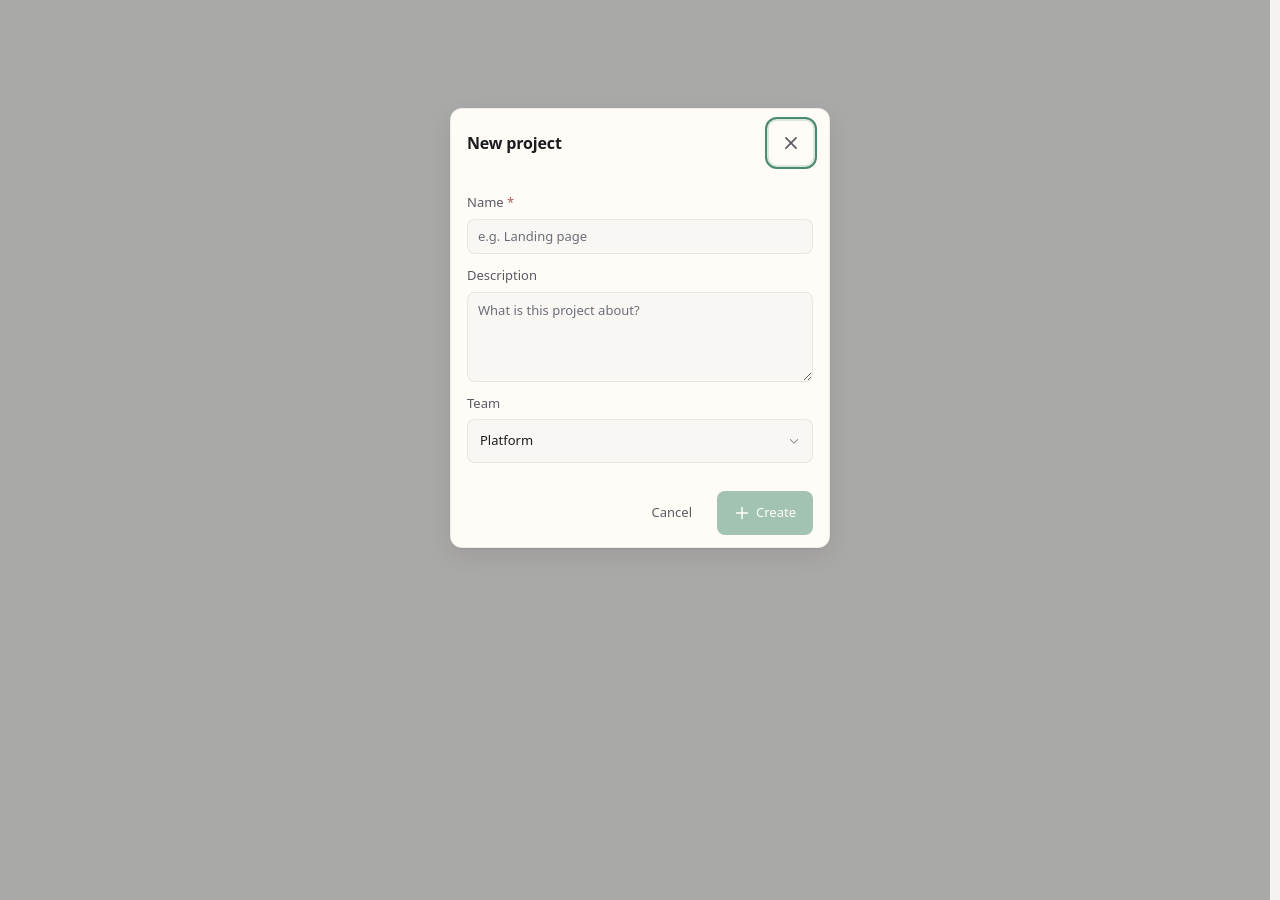
it: NewProjectModal team select › shows the upgrade modal when the plan limit is hit
Type "Landing" into the field labelled "Name *".
click(640, 236); type("Landing")  # box [467,218,813,254]
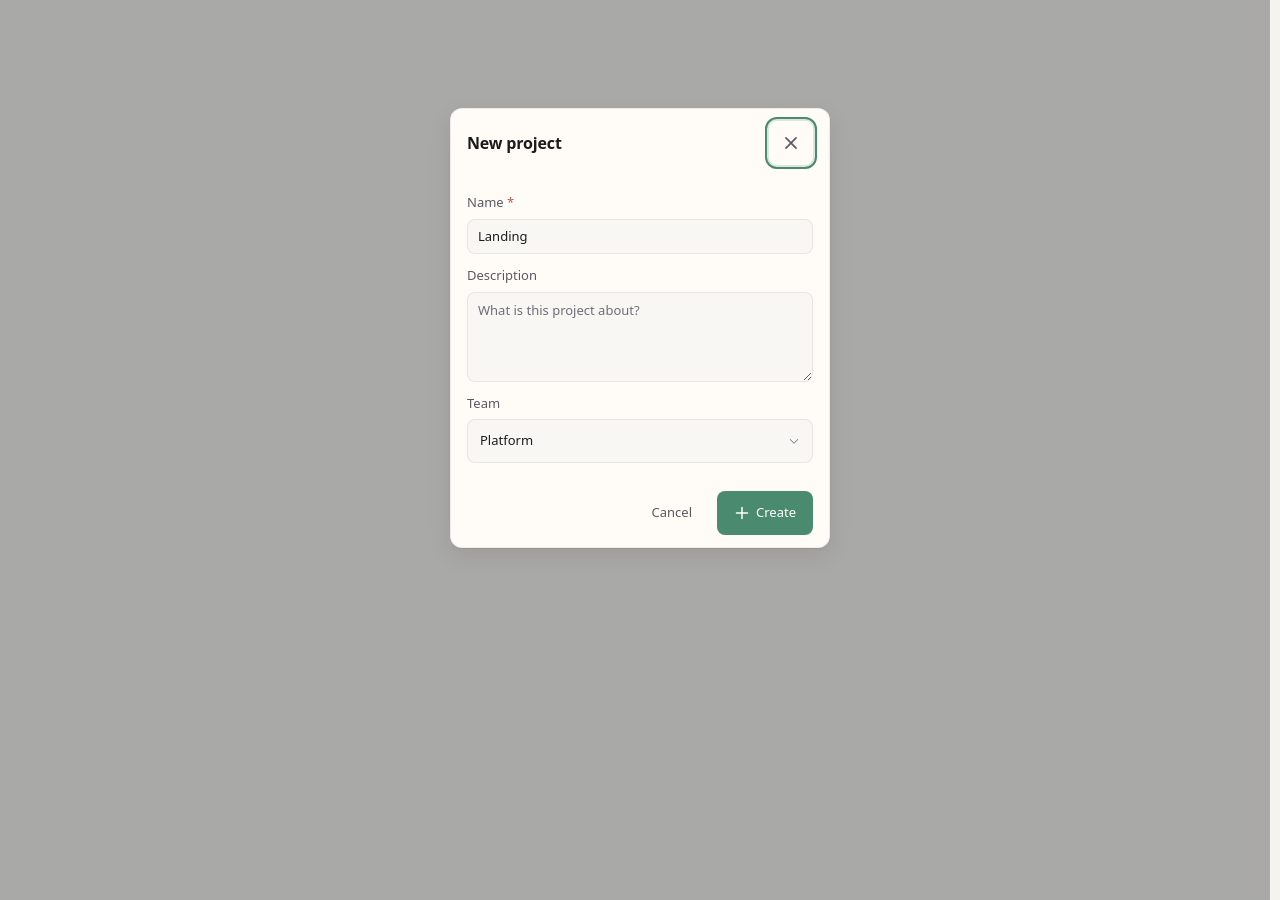
Submit the form with id "new-project-form", box [467,193,813,463]
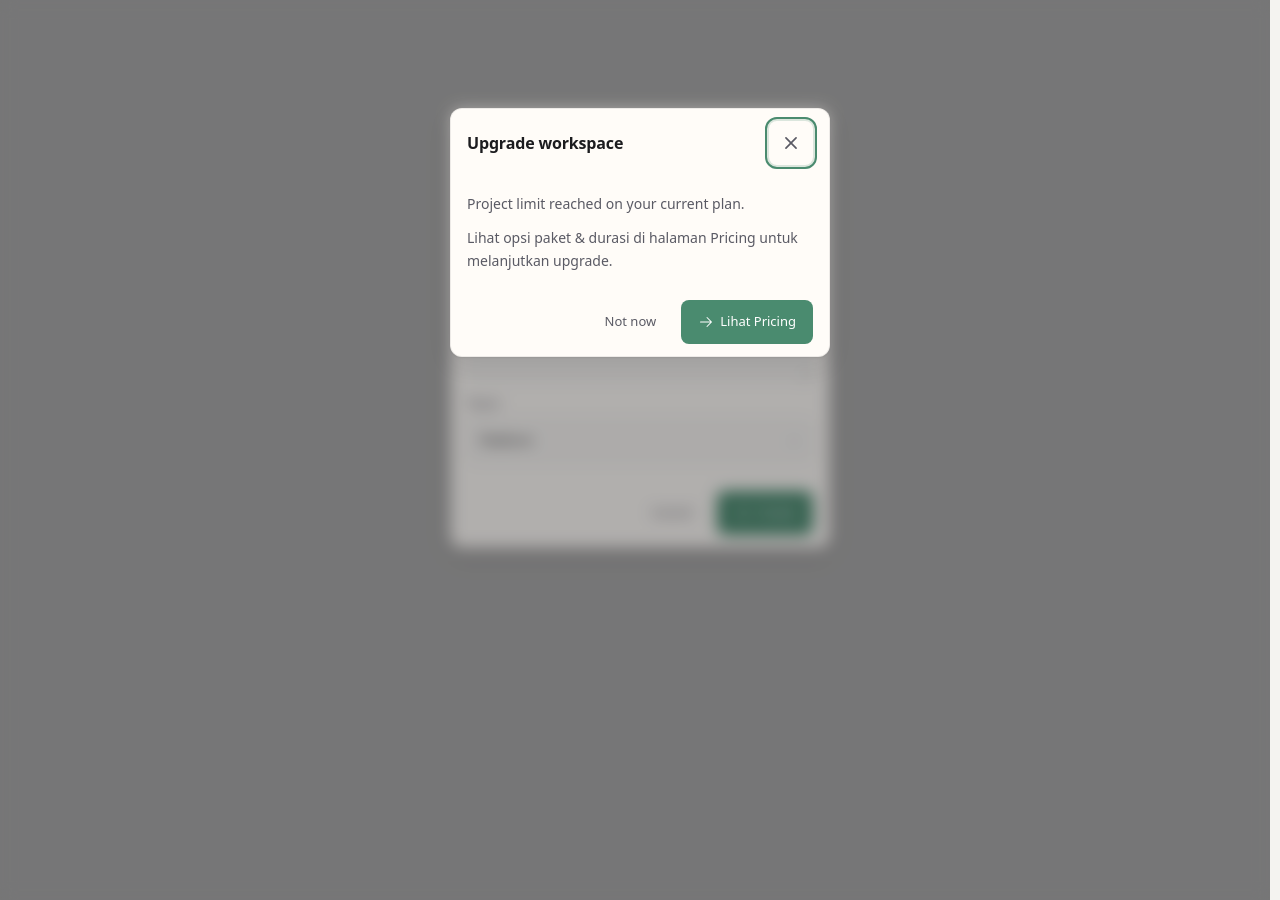
Expected: the heading "Upgrade workspace" is shown, [467,133,623,153]
Expected: the text "Project limit reached on your current plan." is shown, [467,194,745,213]
Expected: the text "Lihat opsi paket" is shown, [467,228,798,270]
